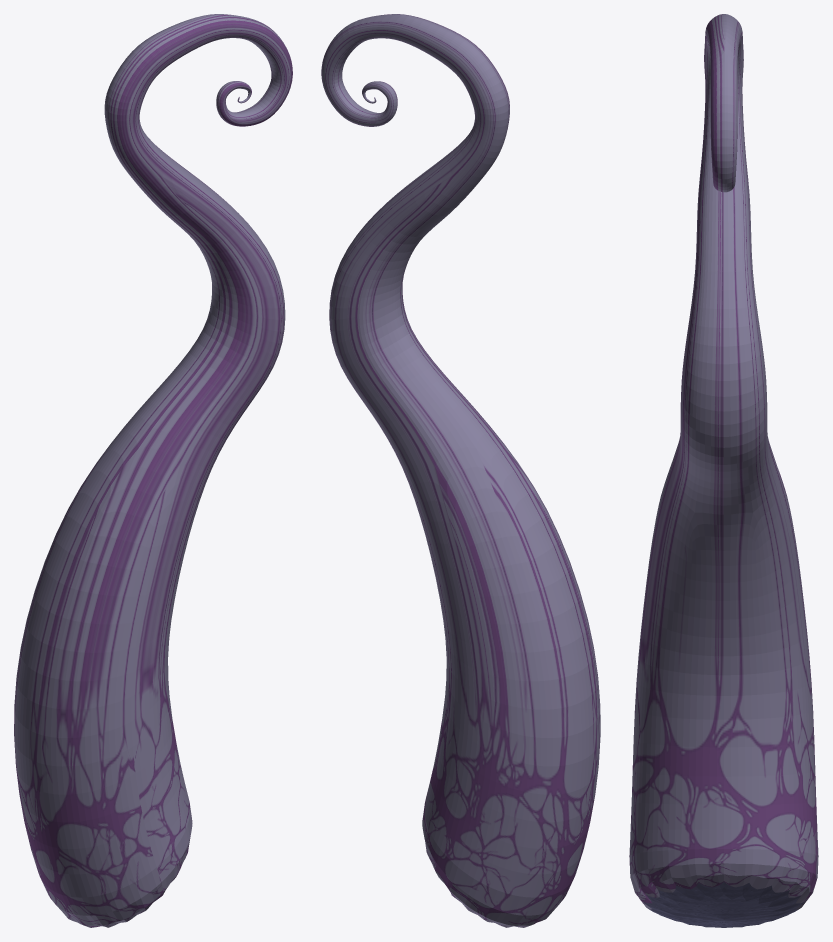
Rendered from TentaculoDecoração2.fbx.
The picture shows the model from 3 angles, left to right: view 1: azimuth 30°, elevation 25°; view 2: azimuth 150°, elevation 25°; view 3: azimuth 270°, elevation 25°; orthographic projection. The views are drawn at different scales.
Parts seen in each view (by area): view 1: Tentacle; view 2: Tentacle; view 3: Tentacle.
Boxes of the visible parts, x1,y1,x2,y2 form: Tentacle: (14, 14, 292, 927); Tentacle: (321, 14, 600, 927); Tentacle: (629, 14, 818, 927).
Bounding box in the file's own units: 138 × 435 × 77.86.
